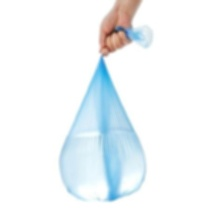plastic_bag: (56, 20, 156, 205)
